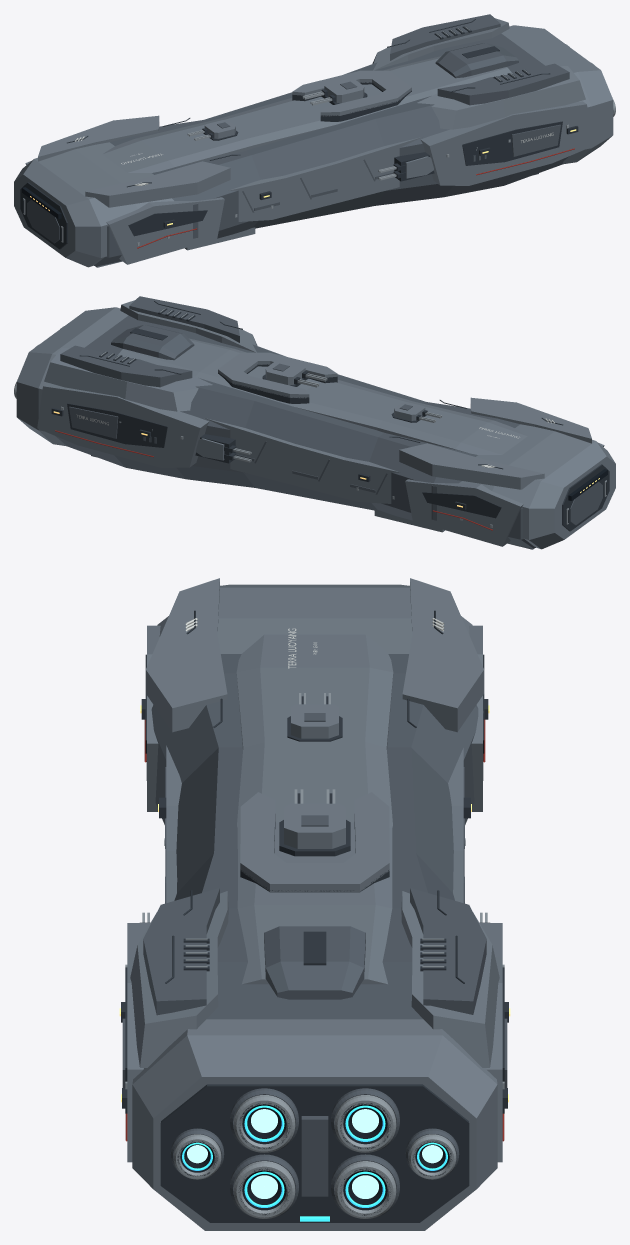
Rendered from wei-line.glb.
The picture shows the model from 3 angles, top to bottom: view 1: azimuth 30°, elevation 25°; view 2: azimuth 150°, elevation 25°; view 3: azimuth 270°, elevation 25°; orthographic projection. The views are drawn at different scales.
Visible parts, largest first — view 1: Pressure hull, Continuous inset center deck, Armored prow belt, P | Central glacis, P | Stepped aft armor, Aft armored engine collar, P | Raked prow cheek, P | Raised aft shoulder, P | Swept bow shoulder, P | Aft shoulder upper laminate, Aft turret U-armor | continuous outer laminate, S | Swept bow shoulder (+14 smaller); view 2: Pressure hull, Continuous inset center deck, Armored prow belt, S | Central glacis, S | Stepped aft armor, Aft armored engine collar, S | Raked prow cheek, S | Raised aft shoulder, S | Swept bow shoulder, S | Aft shoulder upper laminate, Aft turret U-armor | continuous outer laminate, P | Swept bow shoulder (+14 smaller); view 3: Pressure hull, Continuous inset center deck, Aft armored engine collar, Recessed engine plate, Armored prow belt, Aft turret U-armor | continuous outer laminate, P | Swept bow shoulder, S | Swept bow shoulder, P | Aft shoulder upper laminate, S | Aft shoulder upper laminate, Aft deck armored service module, S | Raised aft shoulder (+18 smaller).
Boxes of the visible parts, x1=… form: Pressure hull: x1=94, y1=33, x2=569, y2=266; Continuous inset center deck: x1=102, y1=56, x2=512, y2=172; Armored prow belt: x1=14, y1=142, x2=173, y2=267; P | Central glacis: x1=228, y1=137, x2=422, y2=221; P | Stepped aft armor: x1=420, y1=101, x2=592, y2=185; Aft armored engine collar: x1=501, y1=25, x2=613, y2=164; P | Raked prow cheek: x1=106, y1=197, x2=224, y2=264; P | Raised aft shoulder: x1=417, y1=66, x2=585, y2=129; P | Swept bow shoulder: x1=85, y1=161, x2=230, y2=207; P | Aft shoulder upper laminate: x1=437, y1=63, x2=569, y2=105; Aft turret U-armor | continuous outer laminate: x1=292, y1=70, x2=411, y2=116; S | Swept bow shoulder: x1=38, y1=115, x2=159, y2=161; Pressure hull: x1=56, y1=315, x2=535, y2=548; Continuous inset center deck: x1=117, y1=338, x2=527, y2=454; Armored prow belt: x1=459, y1=424, x2=615, y2=549; S | Central glacis: x1=205, y1=418, x2=399, y2=503; S | Stepped aft armor: x1=37, y1=383, x2=209, y2=467; Aft armored engine collar: x1=16, y1=307, x2=128, y2=446; S | Raked prow cheek: x1=405, y1=479, x2=523, y2=546; S | Raised aft shoulder: x1=44, y1=348, x2=212, y2=411; S | Swept bow shoulder: x1=399, y1=443, x2=544, y2=489; S | Aft shoulder upper laminate: x1=60, y1=345, x2=192, y2=387; Aft turret U-armor | continuous outer laminate: x1=218, y1=352, x2=337, y2=398; P | Swept bow shoulder: x1=470, y1=397, x2=591, y2=443; Pressure hull: x1=146, y1=654, x2=483, y2=1019; Continuous inset center deck: x1=236, y1=634, x2=393, y2=984; Aft armored engine collar: x1=132, y1=1019, x2=497, y2=1230; Recessed engine plate: x1=160, y1=1084, x2=469, y2=1222; Armored prow belt: x1=157, y1=584, x2=472, y2=653; Aft turret U-armor | continuous outer laminate: x1=240, y1=792, x2=389, y2=891; P | Swept bow shoulder: x1=145, y1=578, x2=227, y2=732; S | Swept bow shoulder: x1=402, y1=578, x2=484, y2=732; P | Aft shoulder upper laminate: x1=143, y1=888, x2=219, y2=1015; S | Aft shoulder upper laminate: x1=410, y1=888, x2=486, y2=1014; Aft deck armored service module: x1=264, y1=926, x2=365, y2=999; S | Raised aft shoulder: x1=401, y1=891, x2=499, y2=1067.
Bounding box in the file's own units: 750 × 155 × 234.
